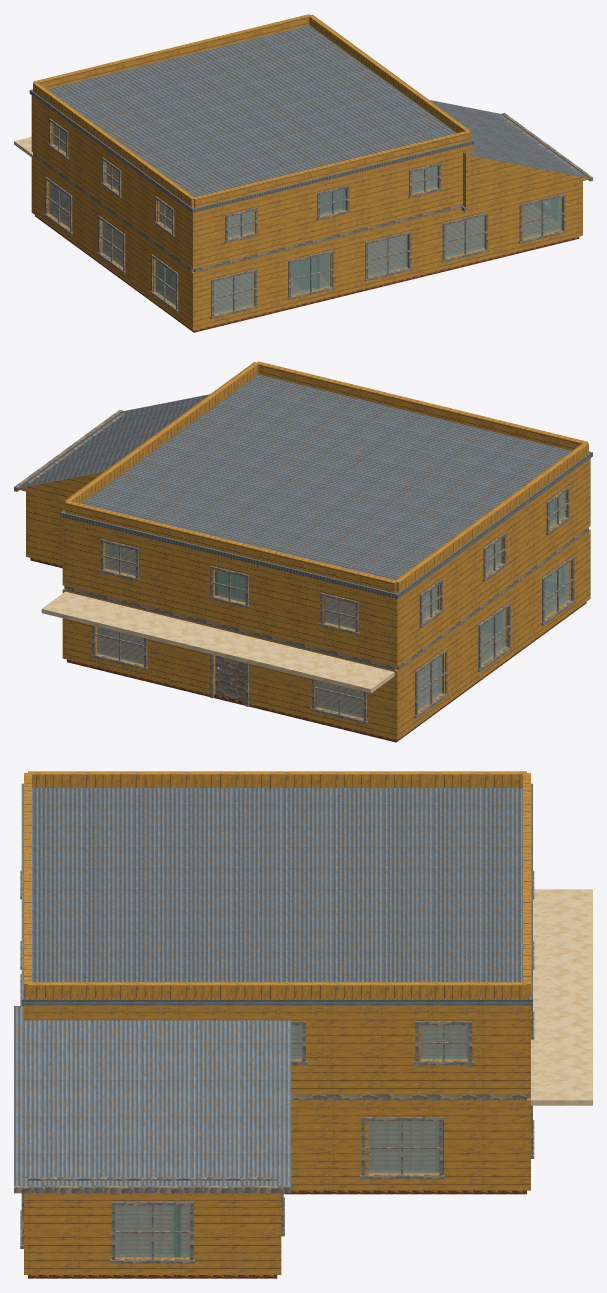
File: pepper-corner-shop.gltf
3 renders of one model, top to bottom at view 1: azimuth 30°, elevation 25°; view 2: azimuth 150°, elevation 25°; view 3: azimuth 270°, elevation 25°, orthographic. The views are drawn at different scales.
Visible parts, largest first — view 1: roof-L1-concrete, exterior-L1-brick, exterior-L0-brick, roof-L1-brick, glazing-L0-glass, trim-L0-dark-wood, floor-L0-floor, roof-L0-concrete, roof-L0-brick, trim-L1-dark-wood, glazing-L1-glass, exterior-L0-dark-wood (+2 smaller); view 2: roof-L1-concrete, exterior-L1-brick, exterior-L0-brick, roof-L1-brick, awning-L0-green-metal, glazing-L0-glass, roof-L0-concrete, trim-L0-dark-wood, floor-L0-floor, trim-L1-dark-wood, glazing-L1-glass, exterior-L0-dark-wood (+5 smaller); view 3: roof-L1-concrete, roof-L0-concrete, exterior-L0-brick, exterior-L1-brick, roof-L1-brick, awning-L0-green-metal, floor-L0-floor, glazing-L0-glass, trim-L0-dark-wood, exterior-L0-dark-wood, roof-L0-dark-wood, trim-L1-dark-wood (+2 smaller).
Part boxes in pixels (x1,y1,x2,y2): roof-L1-concrete: (29,25,474,212); exterior-L1-brick: (31,95,472,269); exterior-L0-brick: (31,154,582,330); roof-L1-brick: (33,14,471,207); glazing-L0-glass: (49,182,561,314); trim-L0-dark-wood: (44,176,566,319); floor-L0-floor: (35,204,579,332); roof-L0-concrete: (429,100,589,178); roof-L0-brick: (419,152,589,209); trim-L1-dark-wood: (48,118,442,242); glazing-L1-glass: (53,124,437,238); exterior-L0-dark-wood: (33,115,581,272); roof-L1-concrete: (60,374,592,598); exterior-L1-brick: (62,458,590,666); exterior-L0-brick: (26,491,590,739); roof-L1-brick: (64,361,588,593); awning-L0-green-metal: (41,591,394,693); glazing-L0-glass: (97,563,569,718); roof-L0-concrete: (18,394,209,488); trim-L0-dark-wood: (91,556,575,724); floor-L0-floor: (30,558,586,742); trim-L1-dark-wood: (99,486,570,635); glazing-L1-glass: (105,493,564,629); exterior-L0-dark-wood: (27,413,588,670); roof-L1-concrete: (21,783,532,1005); roof-L0-concrete: (14,1006,291,1185); exterior-L0-brick: (24,1098,530,1274); exterior-L1-brick: (24,1005,530,1094); roof-L1-brick: (24,771,530,998); awning-L0-green-metal: (531,889,592,1105); floor-L0-floor: (28,1122,526,1278); glazing-L0-glass: (115,1121,439,1257); trim-L0-dark-wood: (20,974,534,1263); exterior-L0-dark-wood: (24,1094,530,1180); roof-L0-dark-wood: (14,1185,291,1193); trim-L1-dark-wood: (20,870,534,1065).
Size of the model in its own units: 14.48 by 4.65 by 11.6.
Materials: 9 (8 with a texture image).
